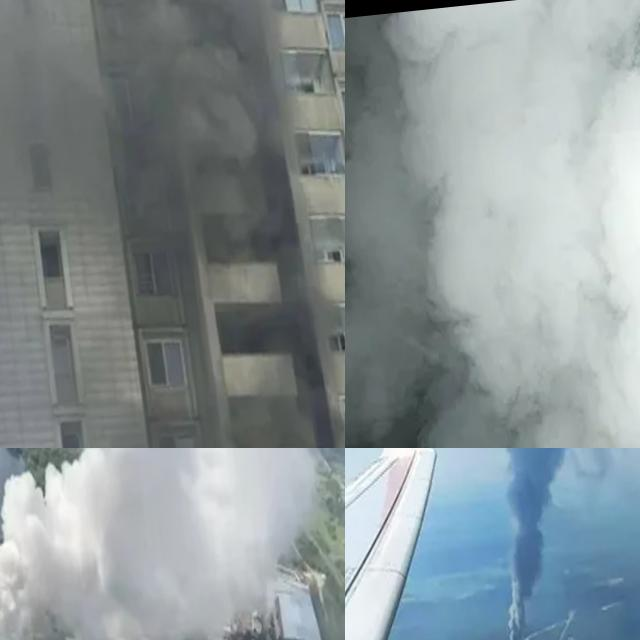smoke: (345, 0, 640, 448), (0, 0, 300, 278), (0, 448, 345, 640), (456, 448, 617, 640)
